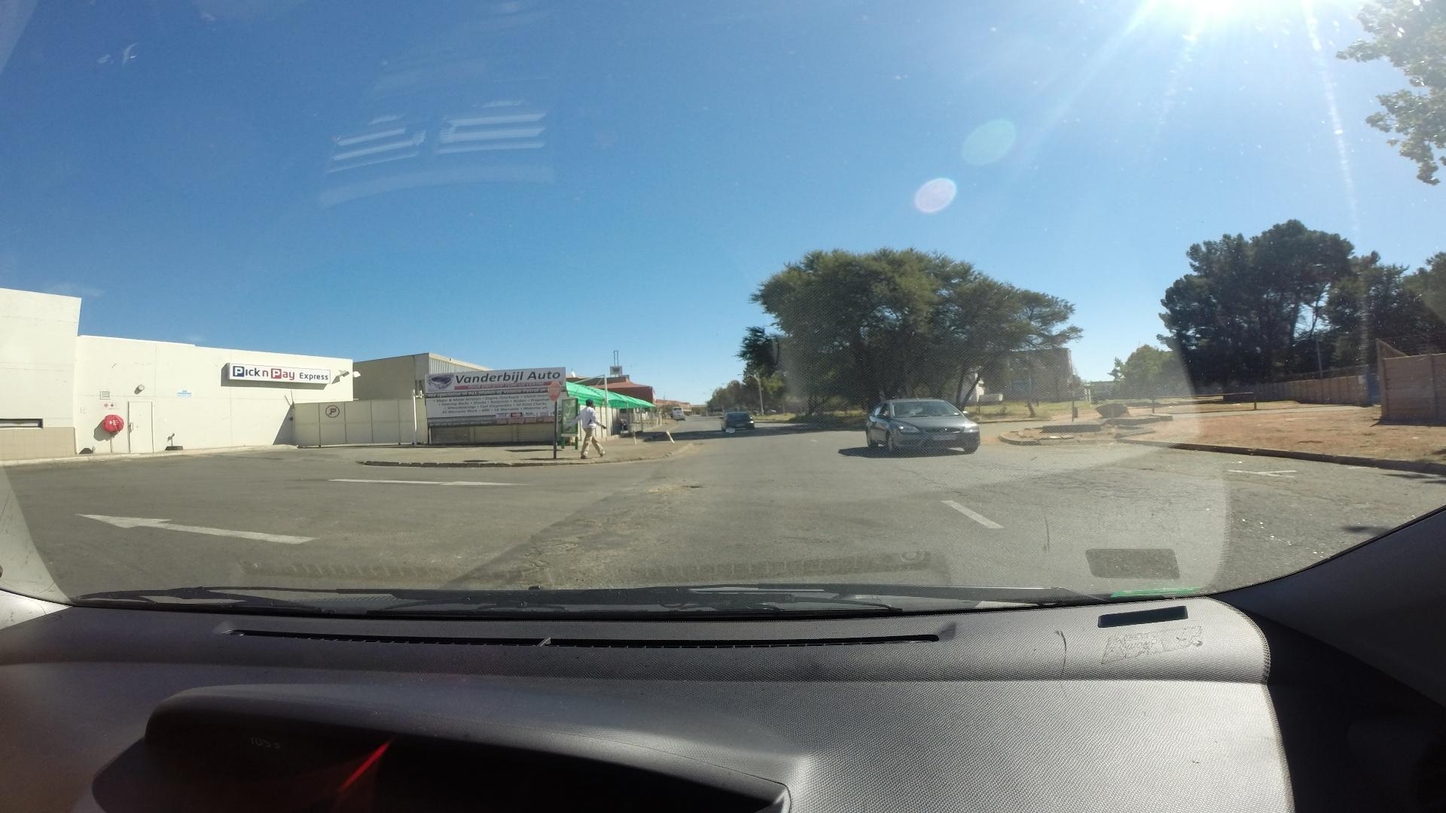pothole: (649, 484, 702, 492)
